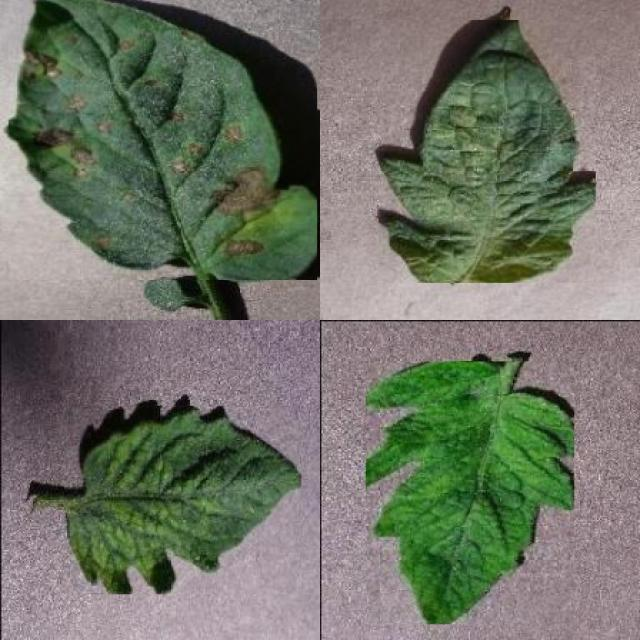Early Blight: (8, 0, 318, 280)
Mosaic Virus: (365, 362, 575, 625), (65, 406, 302, 594)
Spider Mites: (378, 20, 596, 284)
